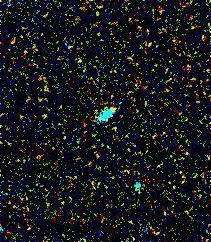star: (98, 95, 128, 125)
